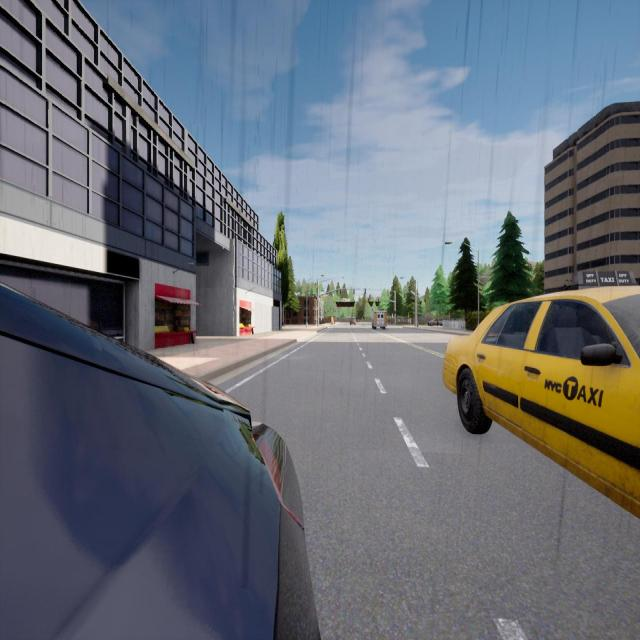Vehicle: (0, 282, 319, 640), (443, 286, 639, 517), (372, 310, 387, 330), (427, 318, 442, 326), (350, 317, 356, 326)
traffic_light: (404, 293, 406, 298), (394, 310, 396, 313), (340, 289, 341, 295), (365, 289, 366, 294), (378, 298, 379, 302), (368, 298, 369, 302), (354, 289, 354, 294), (360, 298, 360, 302)
